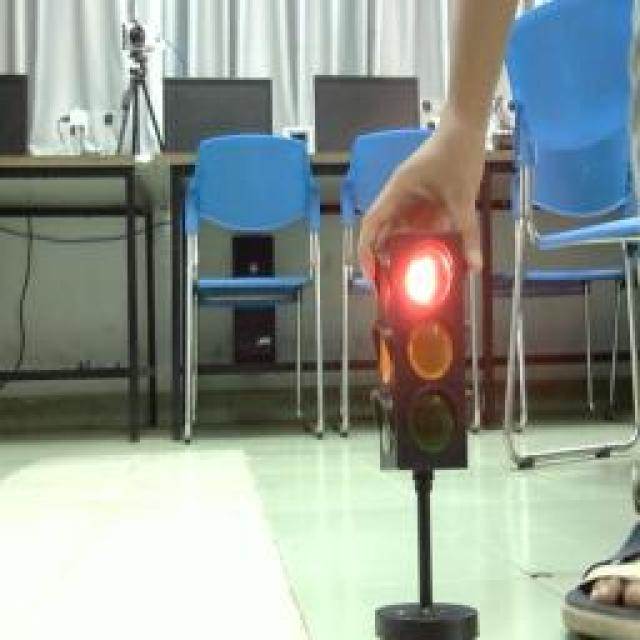-: (403, 239, 458, 311)
